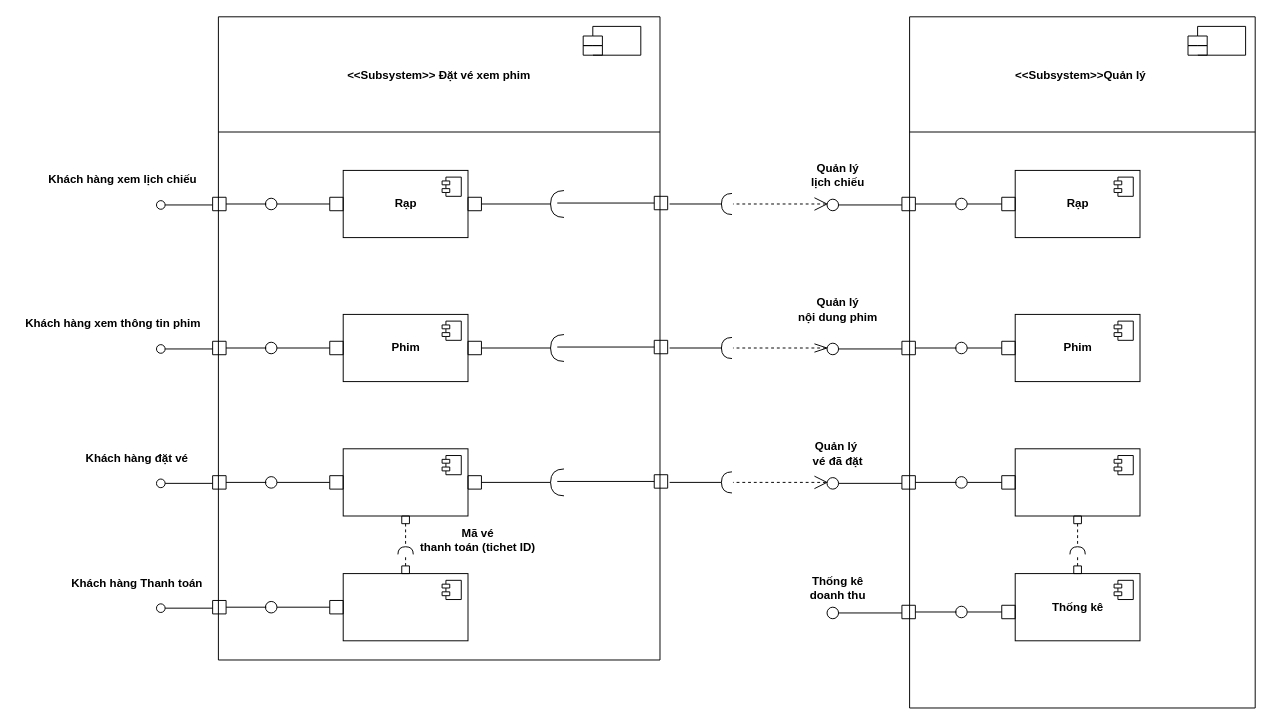
The diagram is 1272 pixels wide and 725 high, and some of its shapes have lost their labels. The box of each missing label's shape, as (x1, y1, x2, y2) in pixels:
Thanh toán: (342, 573, 468, 641)
Đơn hàng (order) (vé đã được đặt): (1014, 448, 1140, 516)
Đặt vé: (342, 448, 468, 516)
